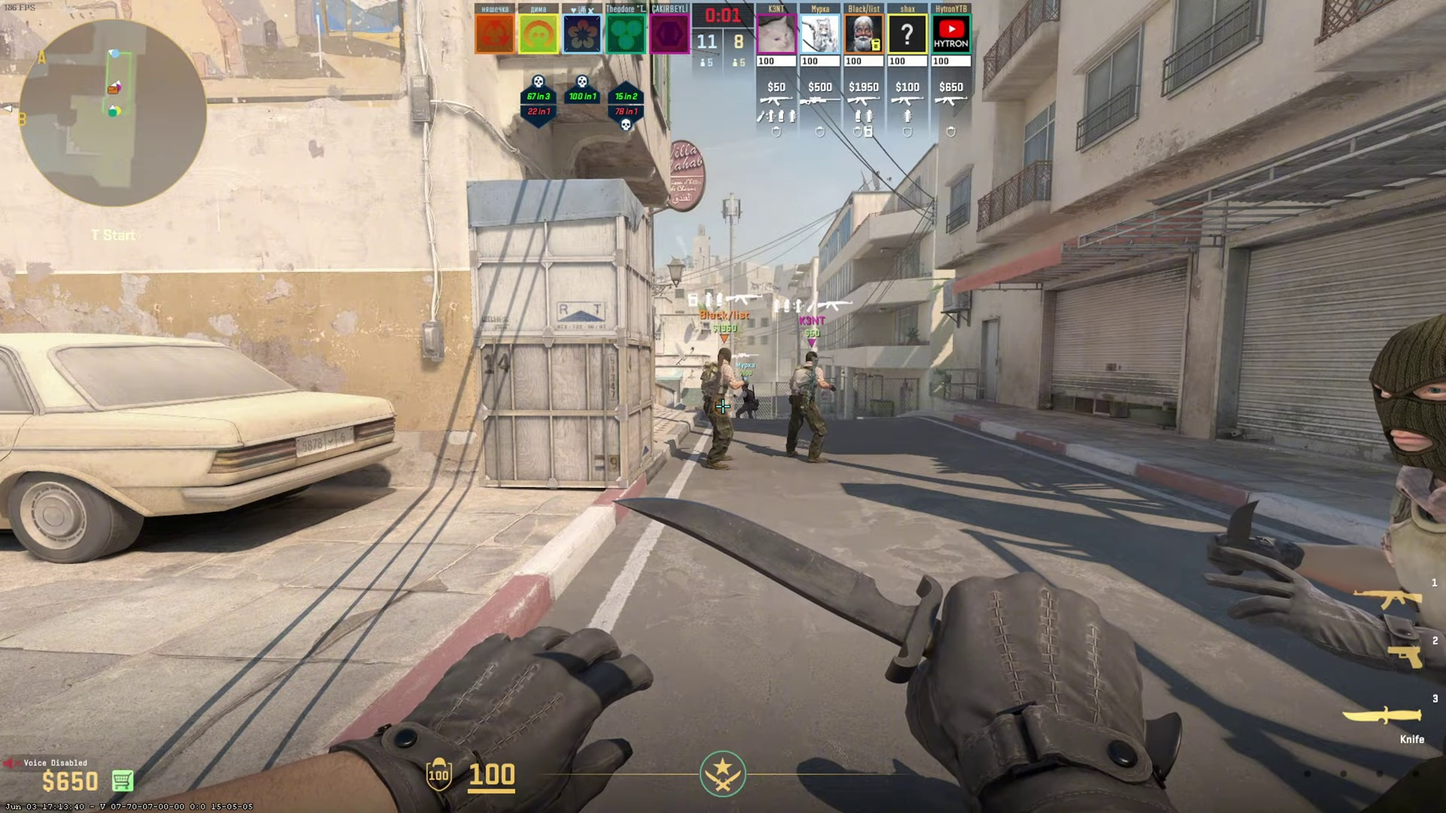Terrorist: (1329, 314, 1446, 813), (786, 352, 827, 463), (706, 348, 736, 469), (736, 385, 756, 419)
